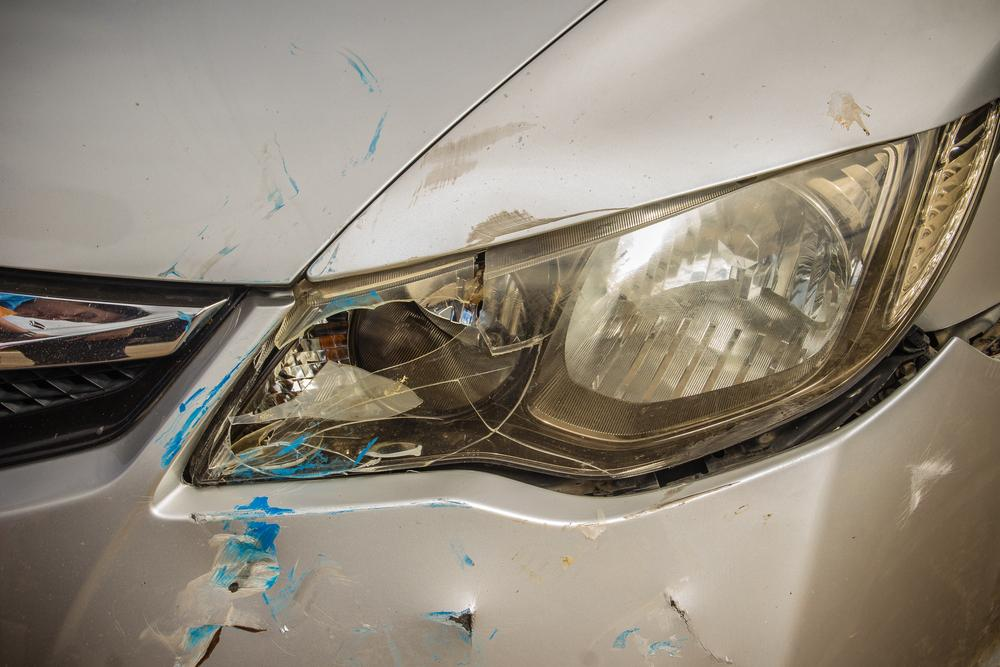crack: (192, 623, 274, 667)
lamp broken: (186, 145, 904, 484)
scratch: (145, 493, 309, 667), (902, 440, 959, 524)
